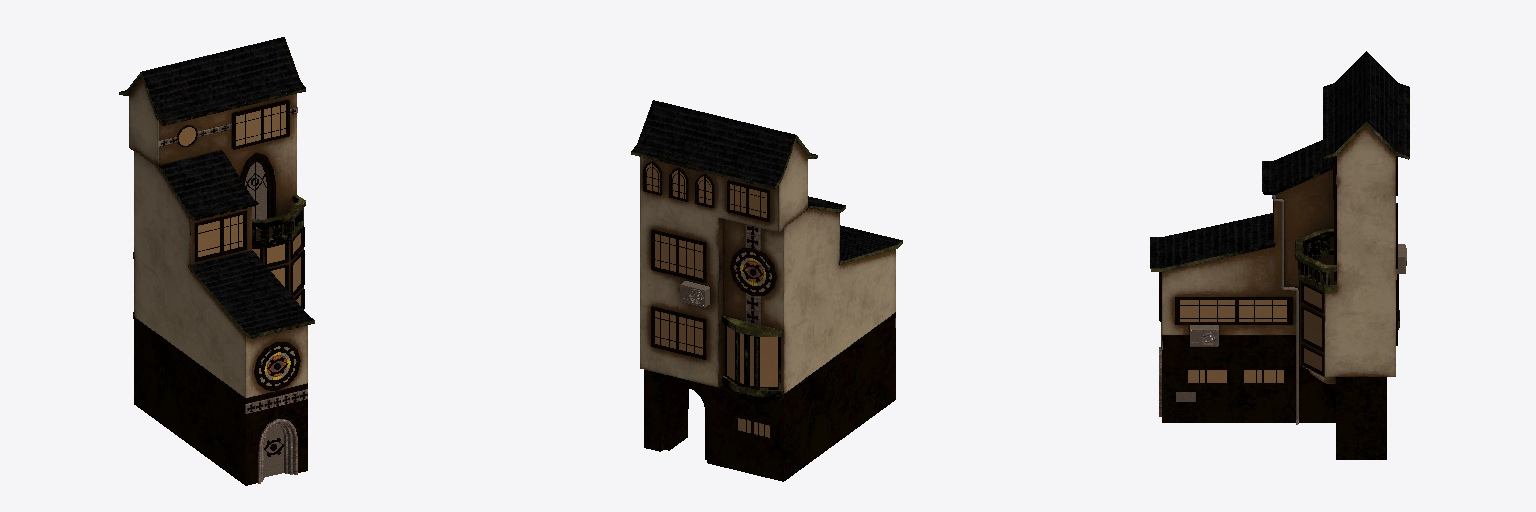
3 renders of one model, left to right at view 1: azimuth 30°, elevation 25°; view 2: azimuth 150°, elevation 25°; view 3: azimuth 270°, elevation 25°, orthographic.
Bounding box in the file's own units: 0.3976 × 0.9 × 0.6226.
Materials: 1 (1 with a texture image).